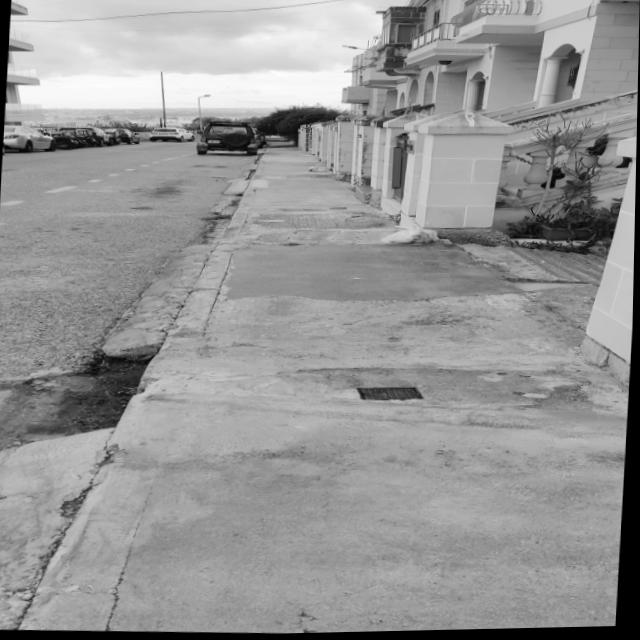Organic Waste -White Bags-: (382, 230, 441, 246), (306, 168, 327, 173)
